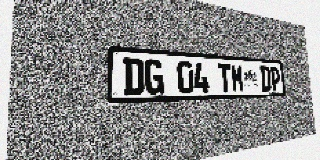0: (177, 61, 194, 94)
4: (193, 62, 209, 93)
D: (123, 57, 144, 95), (260, 66, 271, 91)
G: (144, 59, 164, 95)
M: (231, 64, 244, 92)
P: (270, 66, 281, 91)
T: (218, 63, 232, 93)
